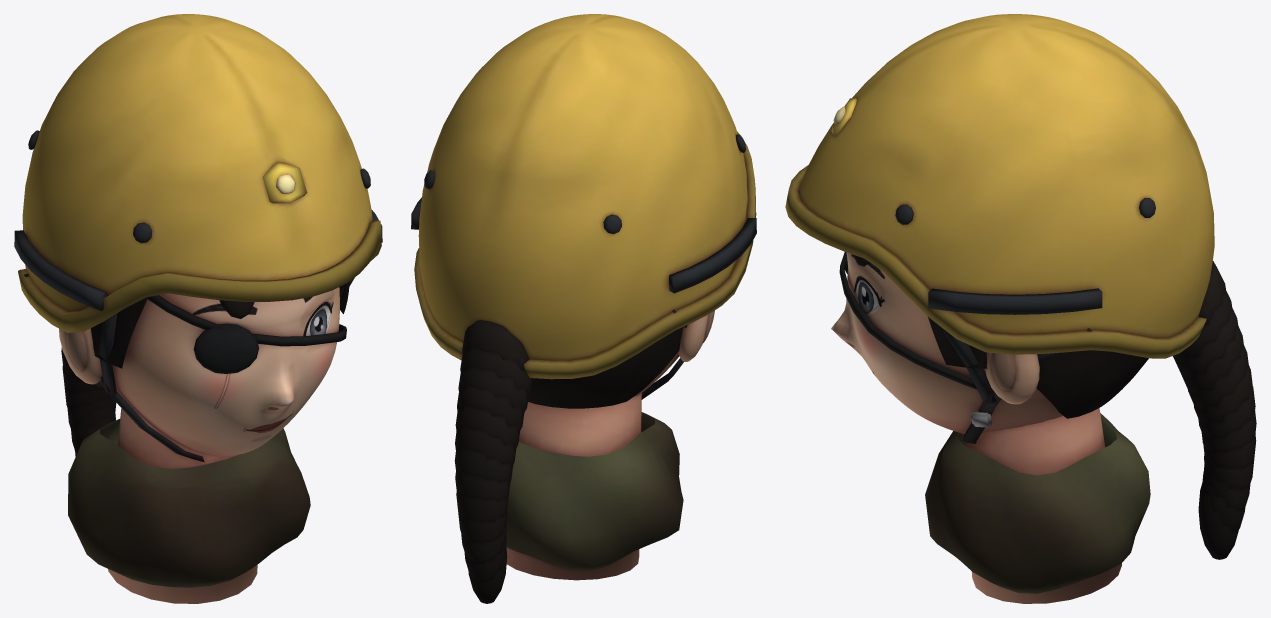
Rendered from cabeza-capitan-f.glb.
3 renders of one model, left to right at view 1: azimuth 30°, elevation 25°; view 2: azimuth 150°, elevation 25°; view 3: azimuth 270°, elevation 25°, orthographic. The views are drawn at different scales.
Parts seen in each view (by area): view 1: h_Head; view 2: h_Head; view 3: h_Head.
Part boxes in pixels (x1,y1,x2,y2): h_Head: (14,14,382,603); h_Head: (411,14,756,603); h_Head: (785,14,1256,603).
Bounding box in the file's own units: 0.2327 × 0.4013 × 0.31.
1 material, 1 textured.
